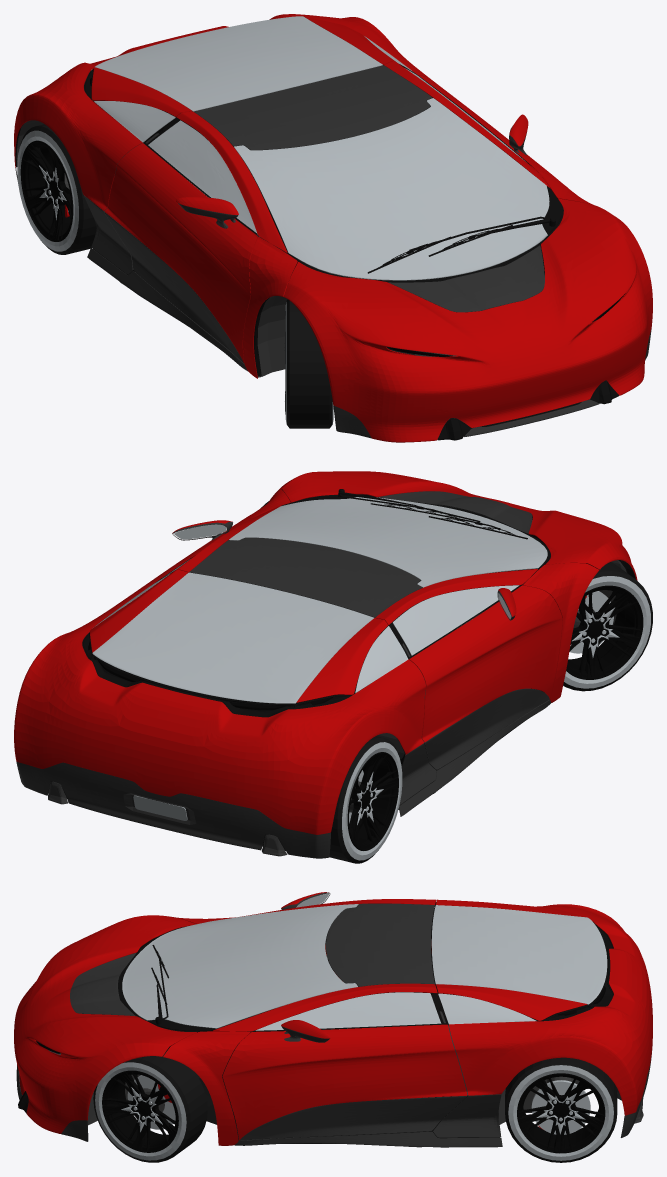
Rendered from toy_car.glb.
The picture shows the model from 3 angles, top to bottom: view 1: azimuth 30°, elevation 25°; view 2: azimuth 150°, elevation 25°; view 3: azimuth 270°, elevation 25°; orthographic projection. The views are drawn at different scales.
Visible parts, largest first — view 1: Body, Hood, Rear Hatch, Right Door, Rear Right Wheel, Front Right Wheel, Left Door, Interior; view 2: Rear Hatch, Body, Right Door, Hood, Front Right Wheel, Rear Right Wheel, Left Door; view 3: Body, Rear Hatch, Left Door, Hood, Front Left Wheel, Rear Left Wheel, Interior, Right Door.
Part boxes in pixels (x1,y1,x2,y2): Body: (15, 61, 651, 438); Hood: (283, 198, 652, 442); Rear Hatch: (14, 14, 428, 211); Right Door: (104, 118, 259, 362); Rear Right Wheel: (17, 124, 96, 254); Front Right Wheel: (285, 299, 333, 428); Left Door: (399, 64, 556, 178); Interior: (93, 110, 603, 435); Rear Hatch: (14, 569, 425, 850); Body: (16, 489, 626, 858); Right Door: (389, 585, 562, 769); Hood: (279, 471, 637, 580); Front Right Wheel: (563, 562, 652, 691); Rear Right Wheel: (329, 736, 402, 863); Left Door: (128, 517, 250, 596); Body: (16, 899, 652, 1147); Rear Hatch: (431, 899, 652, 1115); Left Door: (222, 992, 467, 1140); Hood: (14, 915, 196, 1133); Front Left Wheel: (93, 1054, 207, 1162); Rear Left Wheel: (505, 1057, 617, 1162); Interior: (19, 907, 534, 1143); Right Door: (281, 892, 436, 995).
Bounding box in the file's own units: 2.54 × 1.15 × 4.36.
